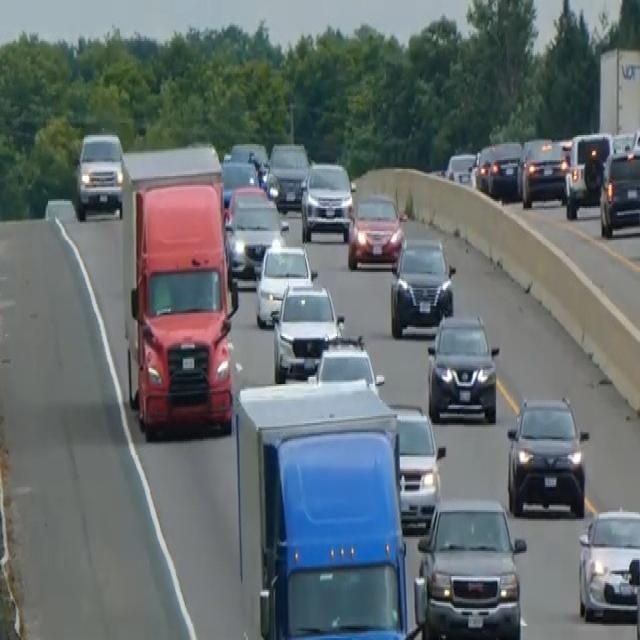car: (413, 496, 527, 638), (505, 393, 589, 517), (426, 311, 500, 423), (271, 279, 344, 382), (390, 402, 446, 532), (577, 505, 639, 622), (389, 235, 455, 338), (225, 190, 287, 276), (254, 240, 315, 327), (309, 332, 384, 397), (347, 190, 405, 270), (299, 158, 354, 242), (74, 130, 124, 218), (563, 130, 613, 218), (598, 146, 639, 238), (517, 135, 567, 208), (266, 140, 310, 210), (487, 139, 522, 199), (220, 155, 260, 206), (230, 140, 269, 180), (444, 149, 476, 185), (473, 142, 495, 192)
lorry: (232, 375, 414, 638), (118, 142, 238, 439)
